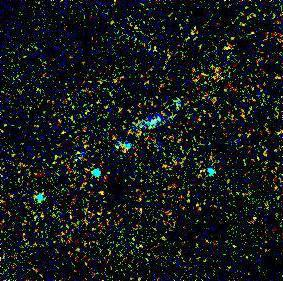star: (87, 177, 117, 207)
